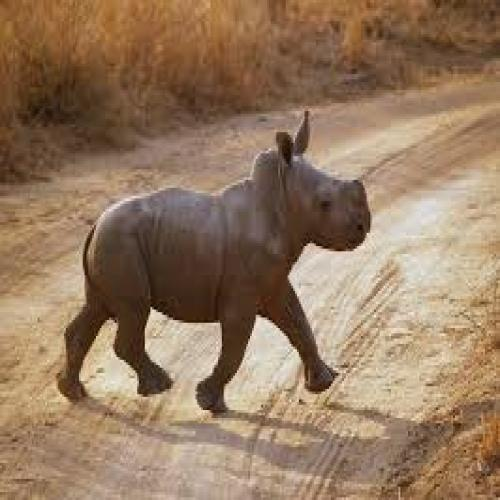rhino-endangered: (55, 112, 372, 415)
